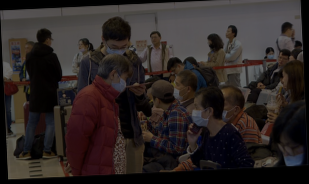mask_weared_incorrect: (77, 43, 87, 53)
with_mask: (190, 102, 209, 129), (111, 73, 129, 95), (105, 43, 129, 56), (172, 80, 185, 104), (207, 40, 216, 50), (267, 52, 276, 60)
without_mask: (282, 71, 291, 90), (278, 53, 290, 66), (171, 64, 183, 75), (288, 53, 298, 63), (151, 35, 159, 46), (225, 28, 232, 39), (24, 46, 31, 53)
